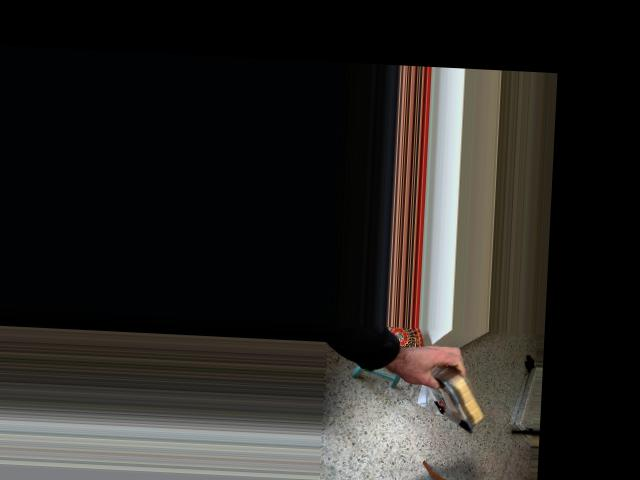cheese: (409, 334, 500, 447)
